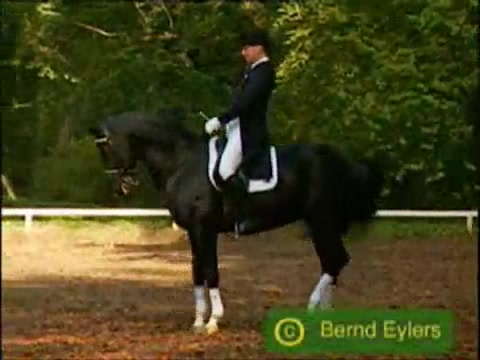horse: (88, 119, 385, 337)
